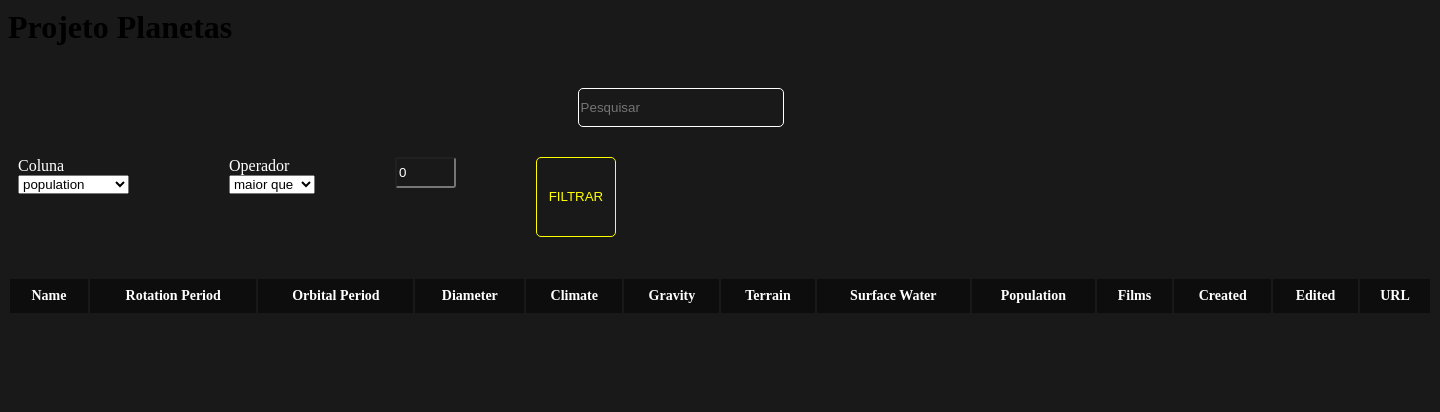
it: taesta aplicação › 6 Verifica se ao clicar no botão filtro exibe os paramentos filtrado
The width and height of the screenshot is (1440, 412).
Click the button with test id "button-filter" at (576, 197), box x1=536 y1=157 x2=616 y2=237
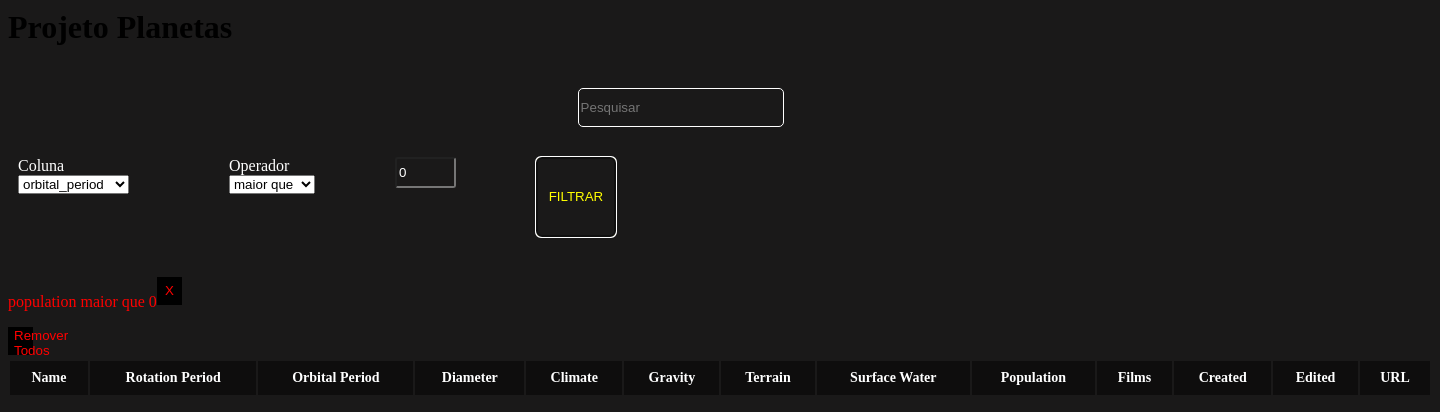
expect the text "population maior que 0" is shown: met, box x1=8 y1=293 x2=157 y2=311
